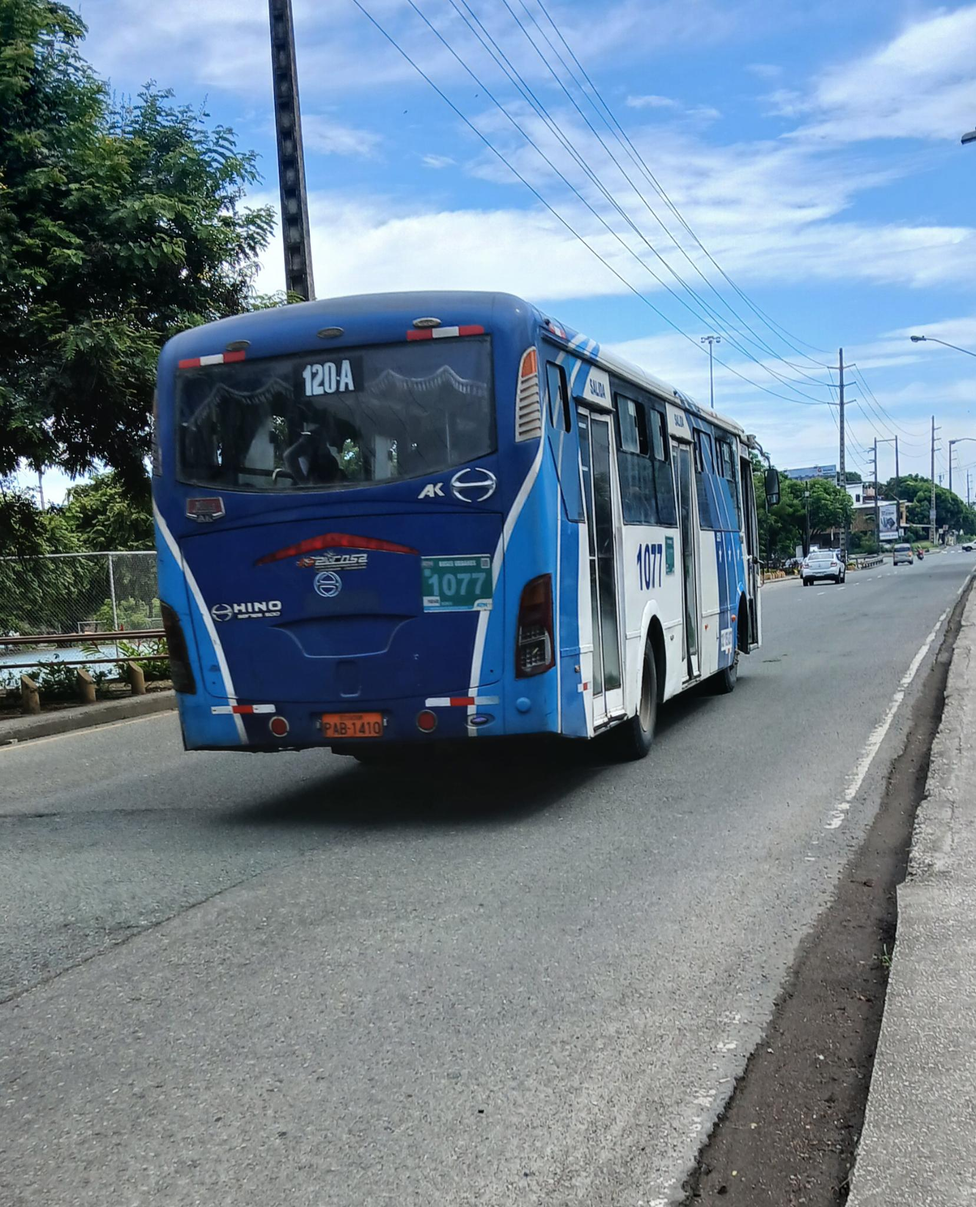license_plate: (318, 713, 383, 738)
